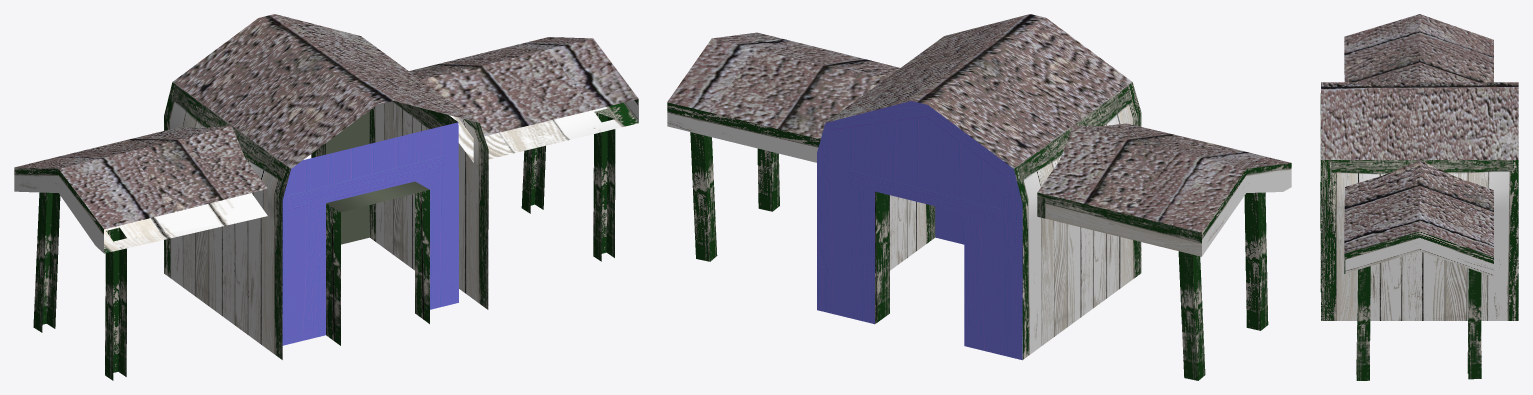
The model's file is TrainStation.fbx.
The picture shows the model from 3 angles, left to right: view 1: azimuth 30°, elevation 25°; view 2: azimuth 150°, elevation 25°; view 3: azimuth 270°, elevation 25°; orthographic projection. The views are drawn at different scales.
Visible parts, largest first — view 1: TrainStation; view 2: TrainStation; view 3: TrainStation.
Part boxes in pixels (left/top/right/bottom): TrainStation: left=14, top=14, right=638, bottom=380; TrainStation: left=667, top=14, right=1291, bottom=380; TrainStation: left=1320, top=14, right=1518, bottom=380.
Size of the model in its own units: 1300 by 540 by 502.
